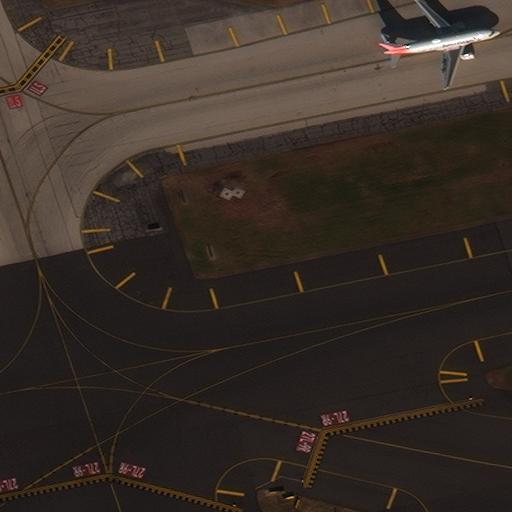Medium Civil Transport: (378, 0, 501, 87)
